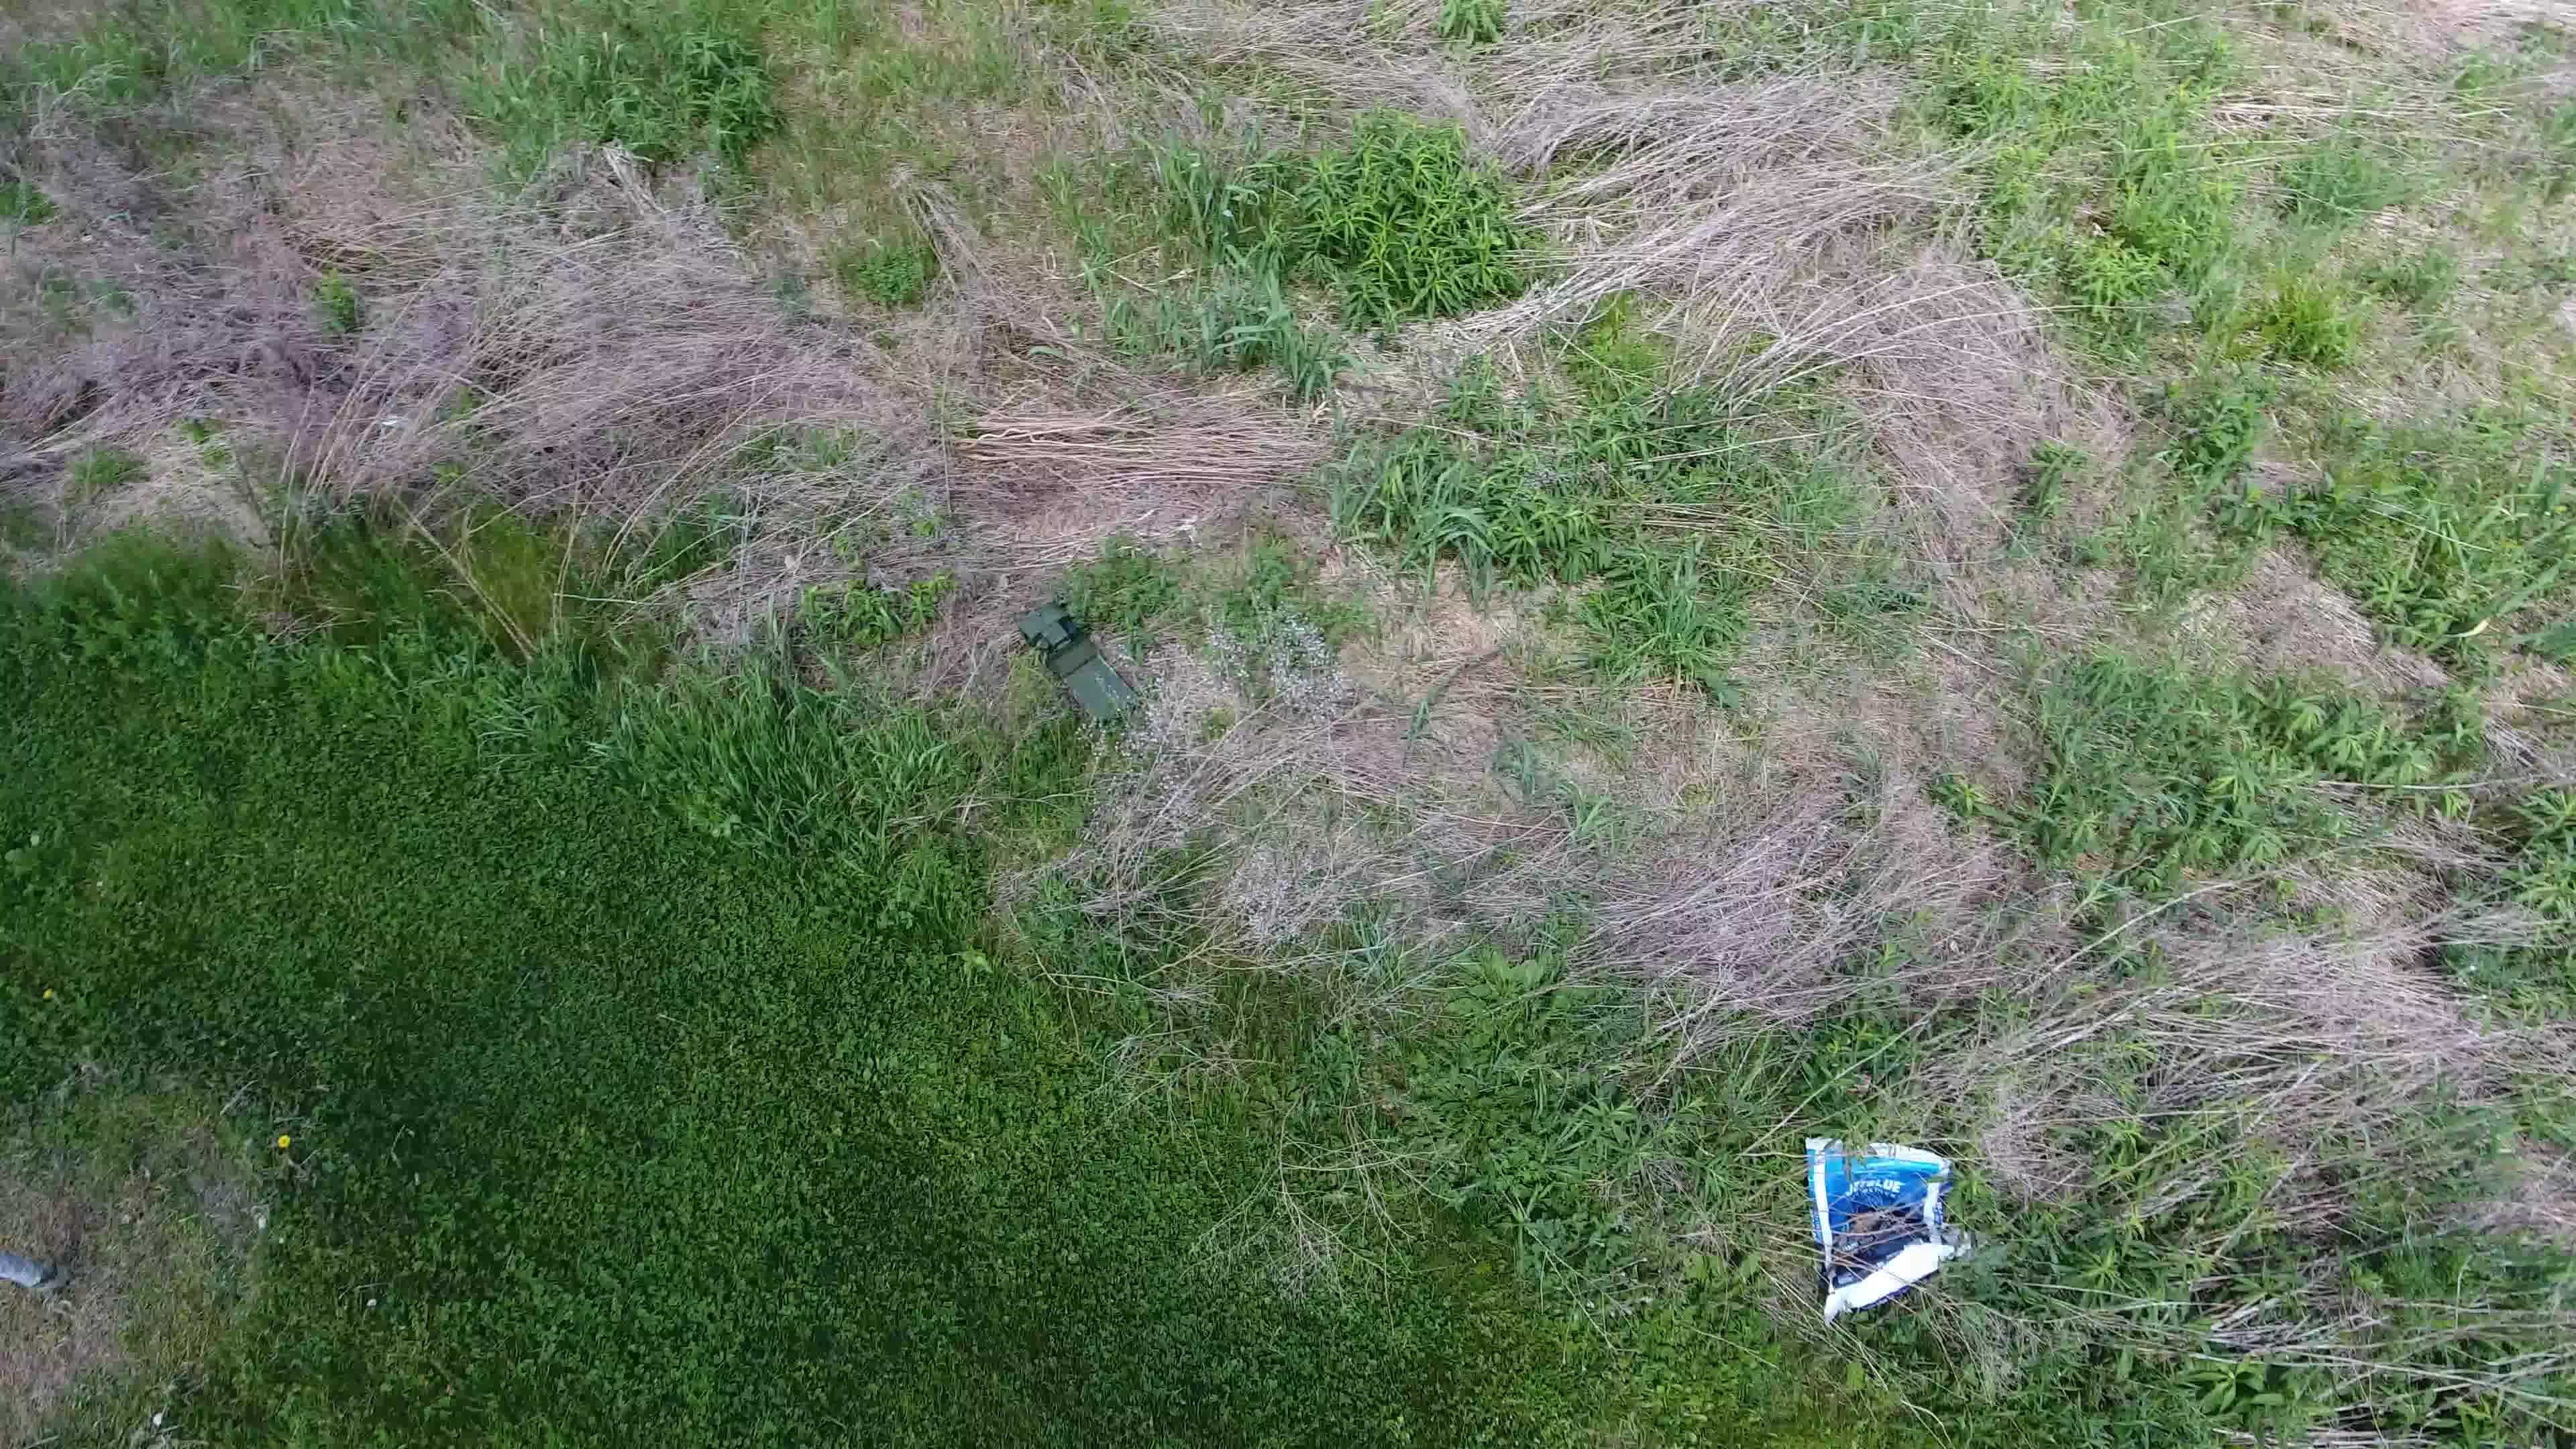transporter9: (1014, 594, 1141, 731)
